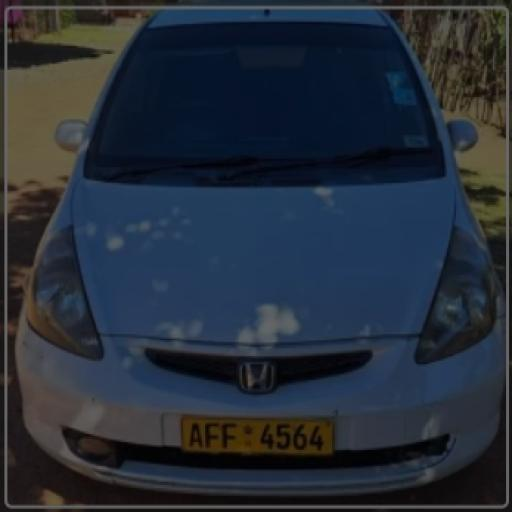number-plates: (182, 416, 332, 455)
